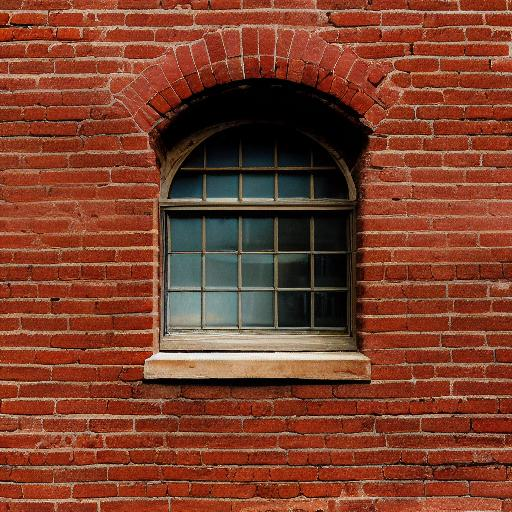Window: (115, 25, 403, 384)
